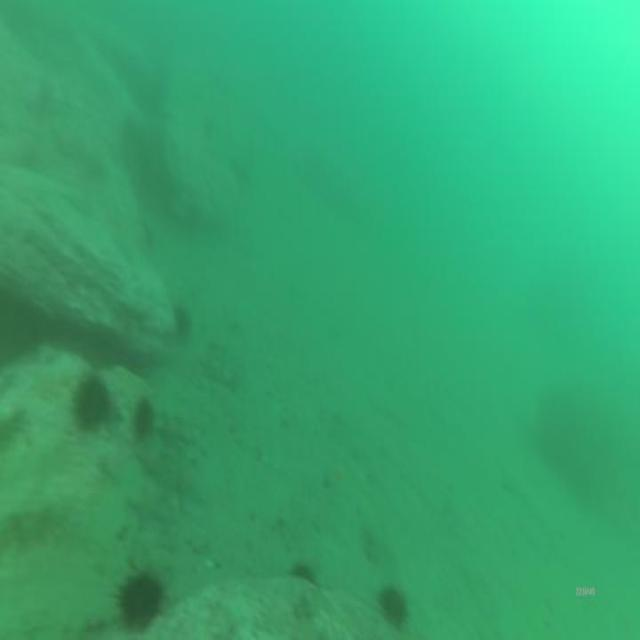echinus: (110, 564, 164, 632), (71, 368, 117, 439), (375, 583, 410, 632), (170, 302, 196, 343), (132, 395, 154, 441), (287, 556, 319, 586)
starfish: (128, 484, 165, 530), (156, 418, 186, 456), (134, 442, 160, 480)
